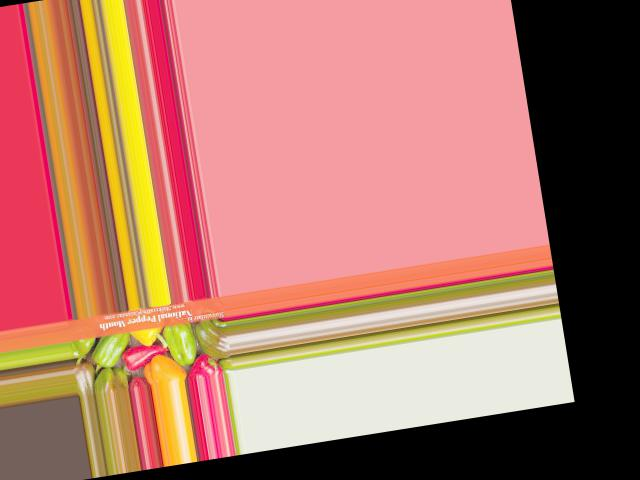bell_pepper: (194, 316, 230, 361)
